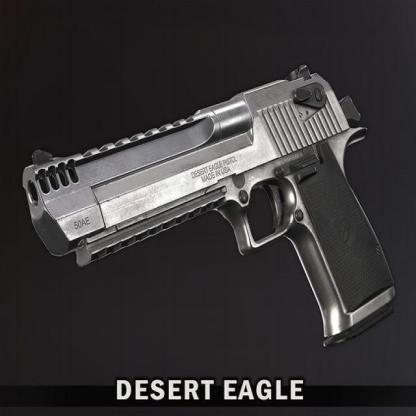handgun: (25, 60, 404, 343)
